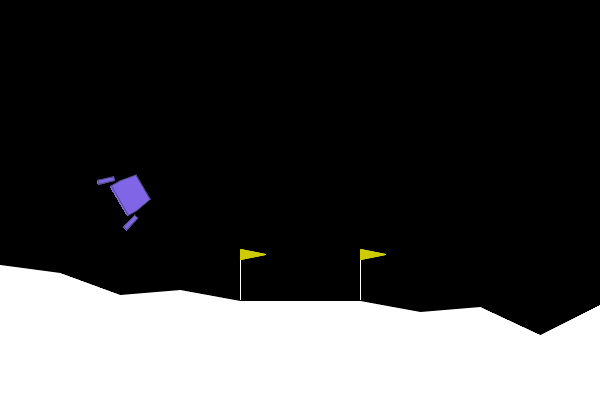lander: (95, 160, 160, 232)
